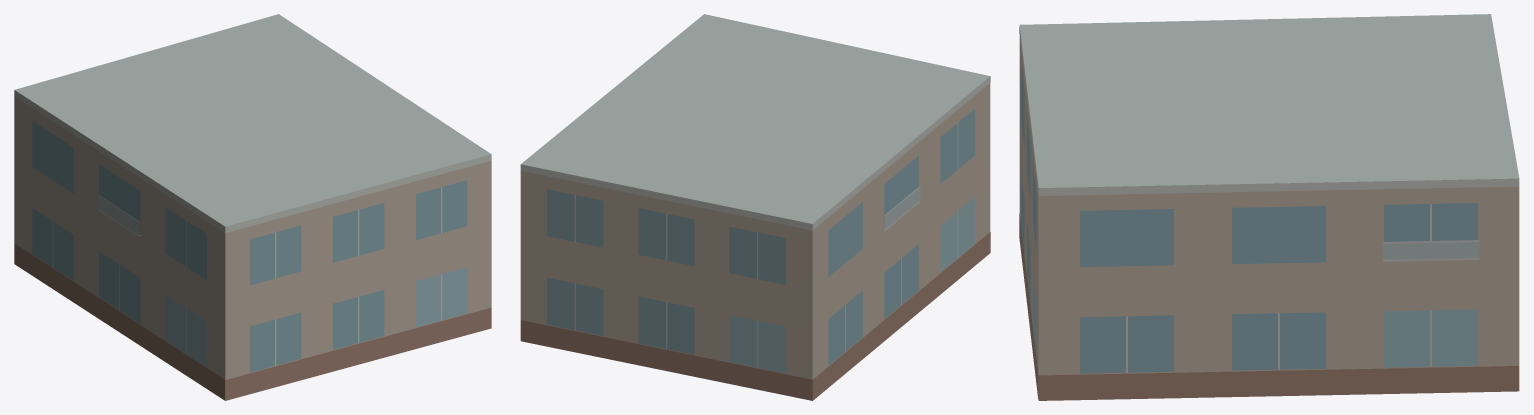
Rendered from survey-upis-32499180.glb.
The picture shows the model from 3 angles, left to right: view 1: azimuth 30°, elevation 25°; view 2: azimuth 150°, elevation 25°; view 3: azimuth 270°, elevation 25°; orthographic projection. The views are drawn at different scales.
Parts seen in each view (by area): view 1: survey-upis-32499180.tmp; view 2: survey-upis-32499180.tmp; view 3: survey-upis-32499180.tmp.
Part boxes in pixels (x1=…): survey-upis-32499180.tmp: x1=14, y1=14, x2=491, y2=400; survey-upis-32499180.tmp: x1=520, y1=14, x2=990, y2=400; survey-upis-32499180.tmp: x1=1019, y1=14, x2=1519, y2=400.
Bounding box in the file's own units: 11.59 × 6.6 × 14.07.
